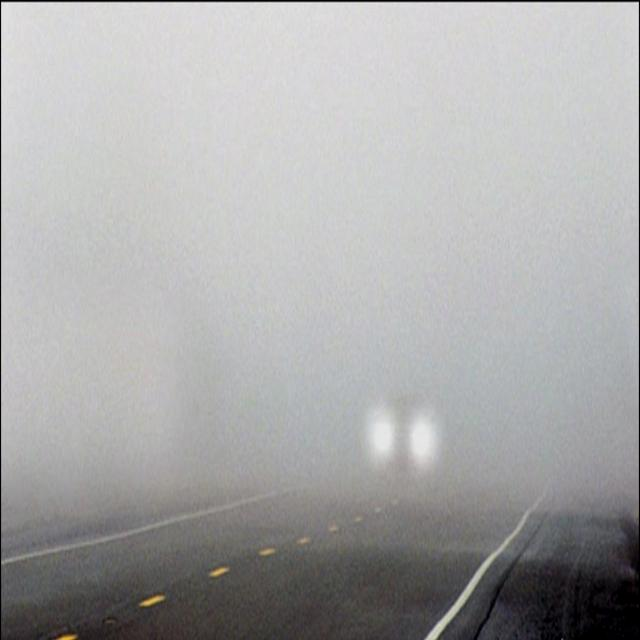Car: (361, 379, 441, 488)
